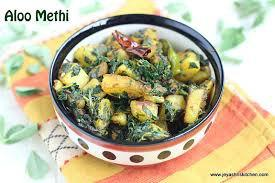Aloo Methi: (56, 25, 232, 162)
